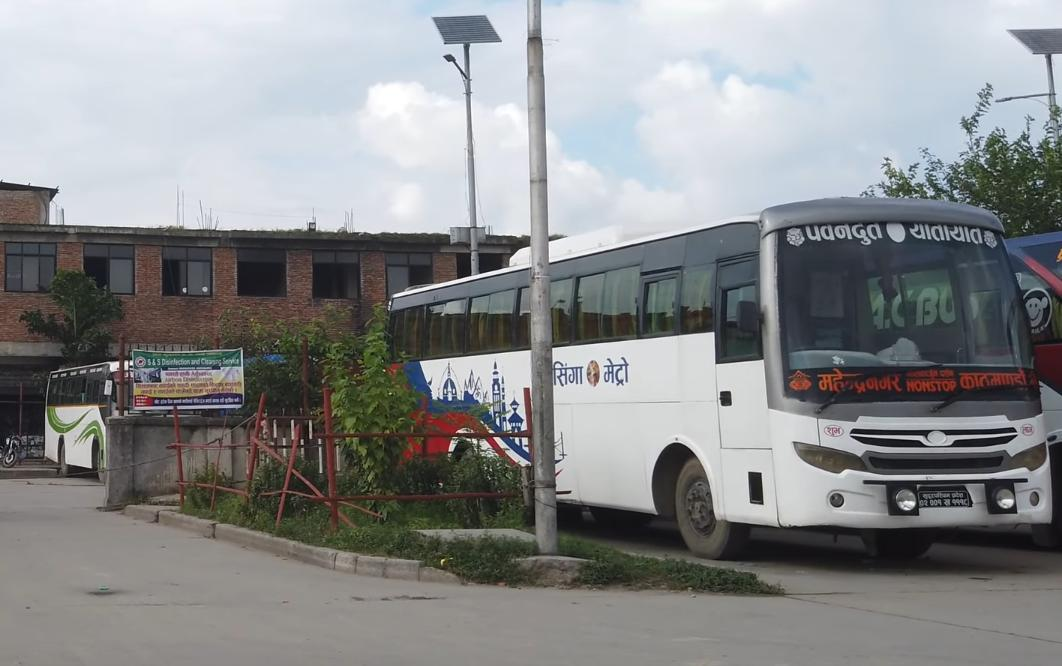bus: (385, 193, 1060, 547)
